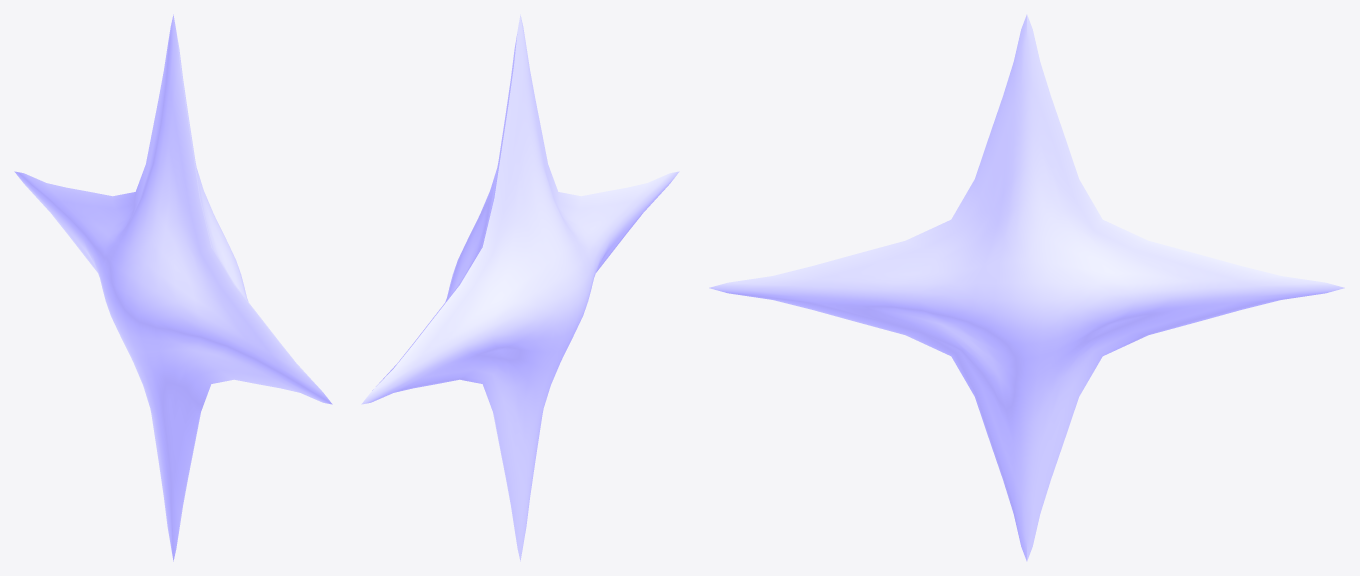
File: Star01.fbx
3 views of the same model, side by side, from view 1: azimuth 30°, elevation 25°; view 2: azimuth 150°, elevation 25°; view 3: azimuth 270°, elevation 25° (orthographic).
Visible parts, largest first — view 1: Star01; view 2: Star01; view 3: Star01.
Boxes of the visible parts, box(x1,y1,x2,y2) form: Star01: box(14, 14, 332, 561); Star01: box(361, 14, 679, 561); Star01: box(709, 14, 1344, 561).
Size of the model in its own units: 47.61 by 215 by 226.
